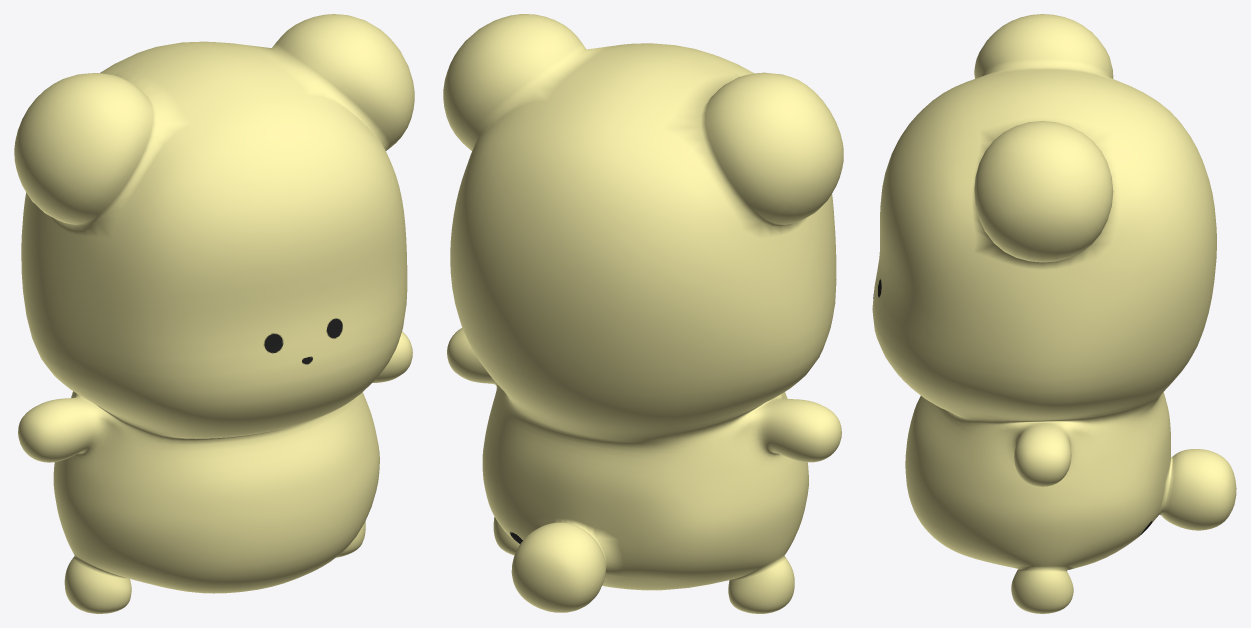
Rendered from kosukuma.glb.
3 renders of one model, left to right at view 1: azimuth 30°, elevation 25°; view 2: azimuth 150°, elevation 25°; view 3: azimuth 270°, elevation 25°, orthographic. The views are drawn at different scales.
Visible parts, largest first — view 1: 立方体; view 2: 立方体; view 3: 立方体.
Part boxes in pixels (x1,y1,x2,y2): 立方体: [14, 14, 414, 613]; 立方体: [443, 14, 843, 613]; 立方体: [872, 14, 1236, 613].
Bounding box in the file's own units: 1.52 × 2 × 1.36.
1 material, 1 textured.
